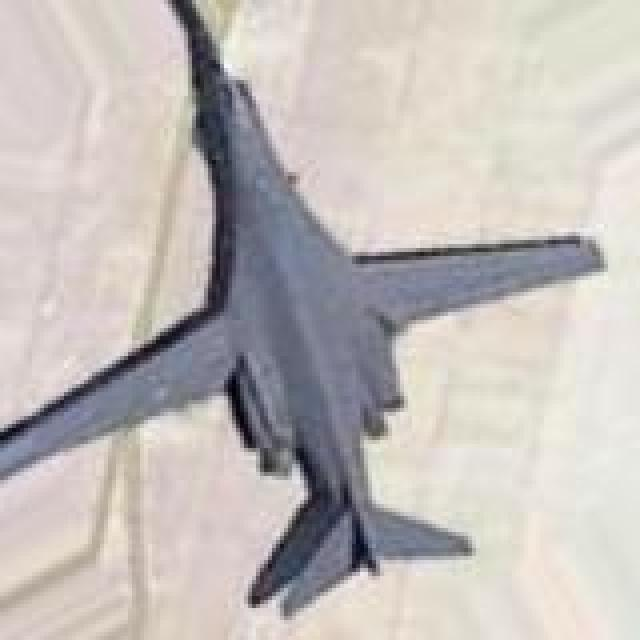B-1_TopDown: (0, 0, 608, 620)
